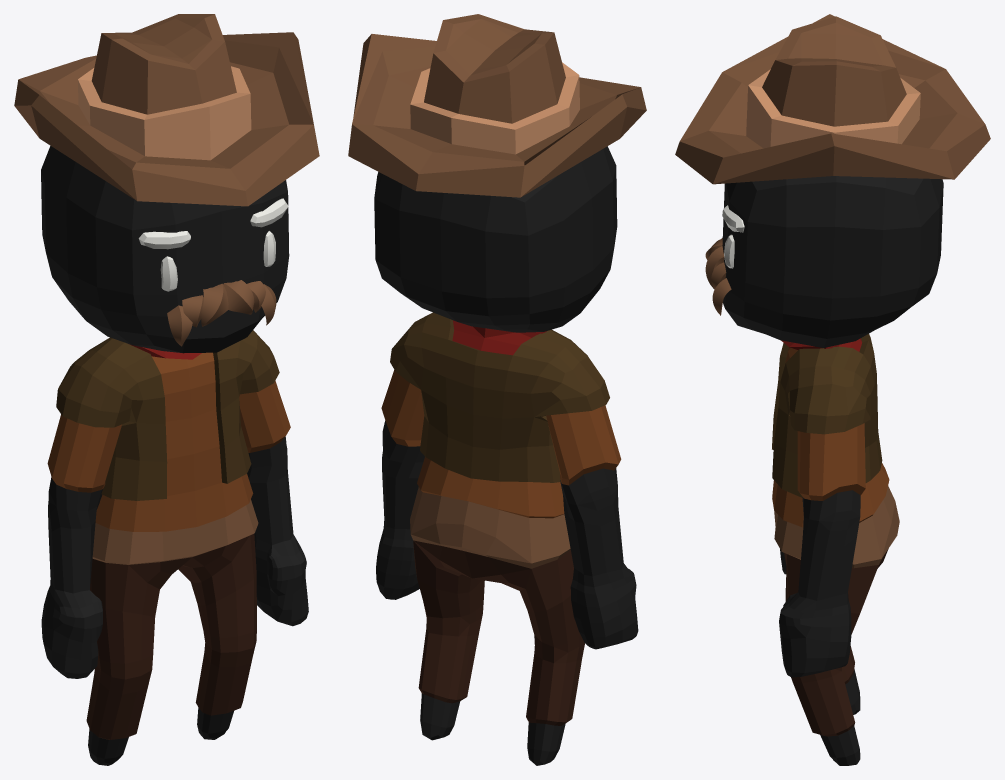
Rendered from Cowboy_Male.glb.
The picture shows the model from 3 angles, left to right: view 1: azimuth 30°, elevation 25°; view 2: azimuth 150°, elevation 25°; view 3: azimuth 270°, elevation 25°; orthographic projection. The views are drawn at different scales.
Visible parts, largest first — view 1: Body_Cube.004; view 2: Body_Cube.004; view 3: Body_Cube.004.
Part boxes in pixels (box(x1,y1,x2,y2)): Body_Cube.004: box(14, 14, 319, 765); Body_Cube.004: box(348, 14, 646, 765); Body_Cube.004: box(675, 14, 990, 765).
Bounding box in the file's own units: 1.34 × 3.47 × 1.42.
